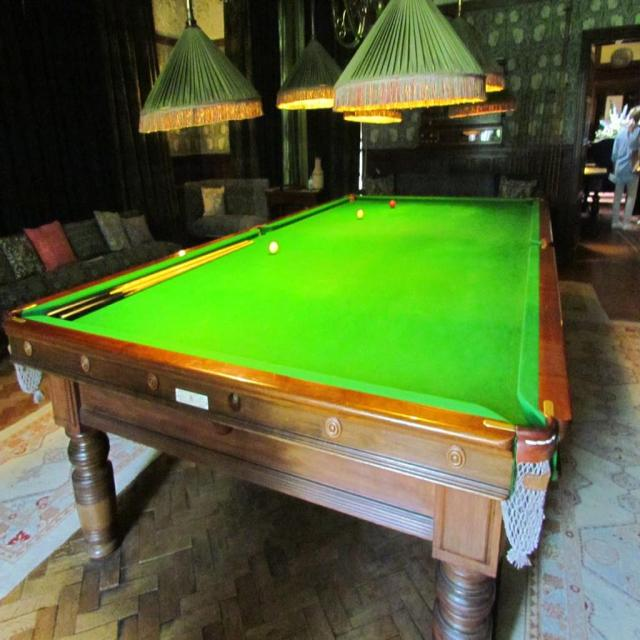table: (0, 193, 568, 639)
